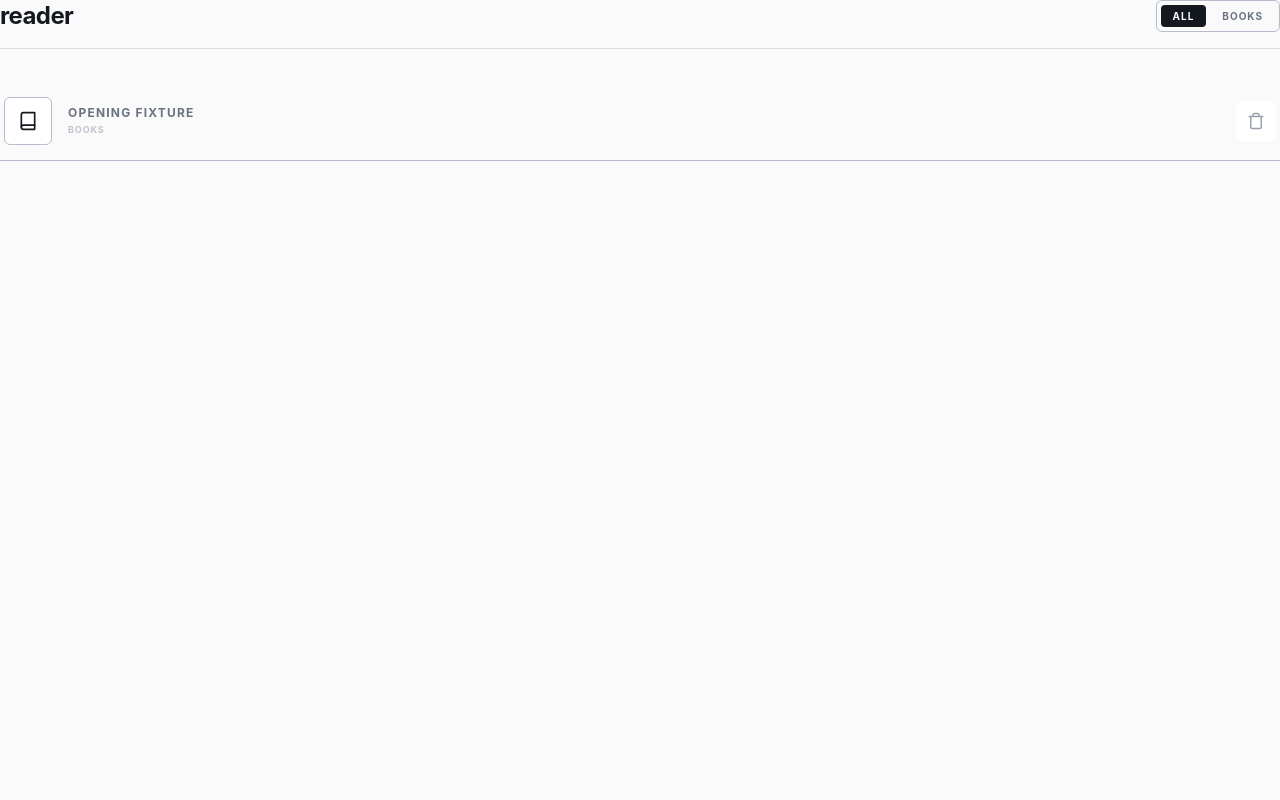
shows the reader while a selected book is loading
Click the button "Opening fixture Books" at coordinates (28, 120), box x1=4 y1=81 x2=1220 y2=160
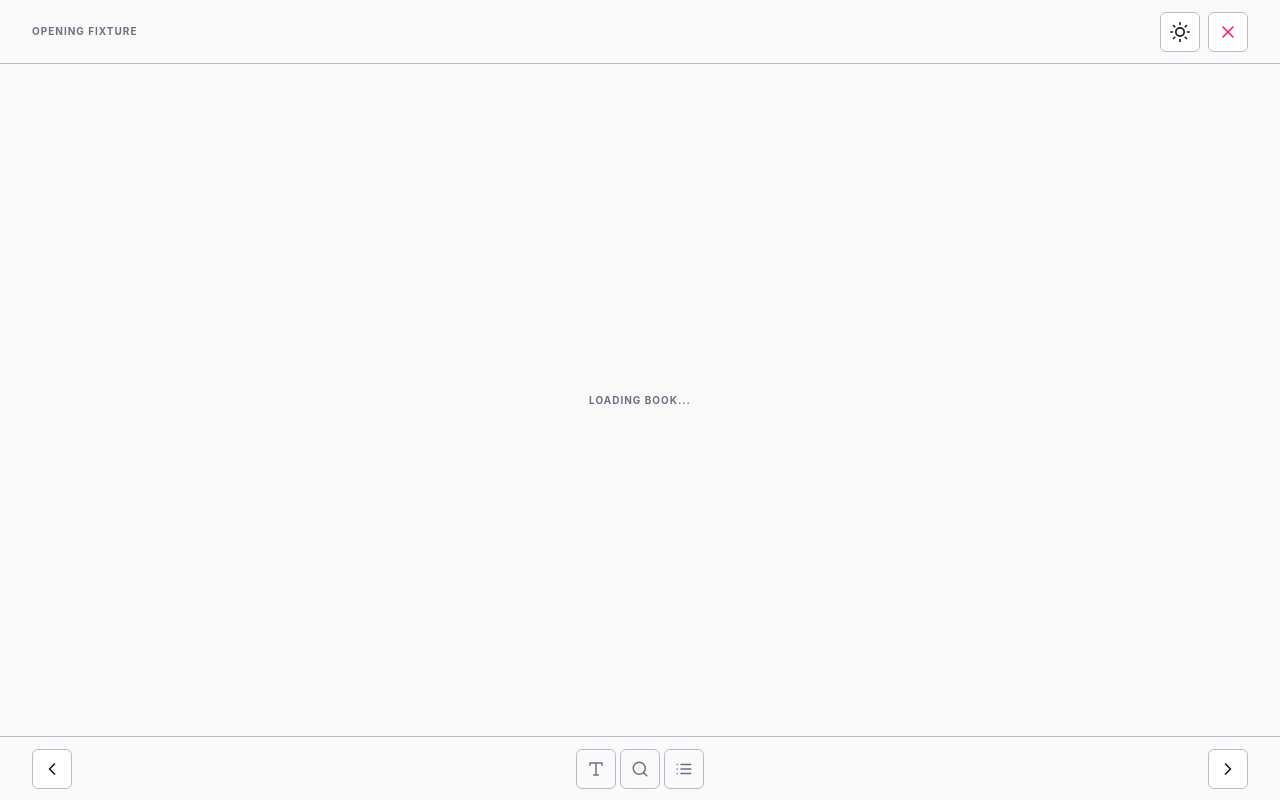
Expected: the button named "Close reader" is shown, x1=1208 y1=12 x2=1248 y2=52
Expected: the text "loading book..." is shown, x1=589 y1=392 x2=691 y2=408
